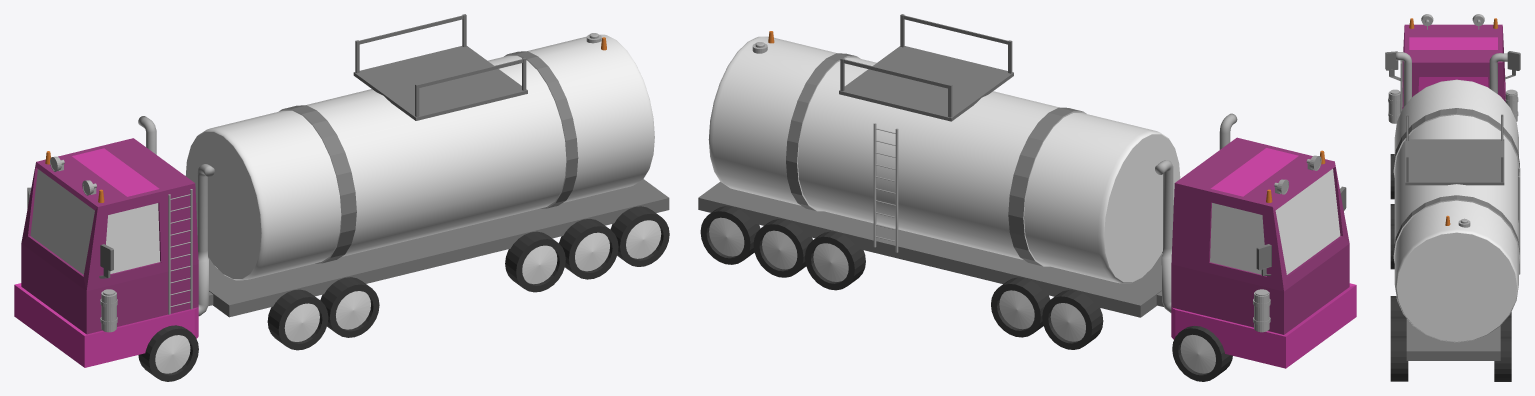
The model's file is Oil Purple.fbx.
3 renders of one model, left to right at view 1: azimuth 30°, elevation 25°; view 2: azimuth 150°, elevation 25°; view 3: azimuth 270°, elevation 25°, orthographic. The views are drawn at different scales.
Visible parts, largest first — view 1: Cylinder.075, Truck Body.007, Cube.011, Cylinder.089, Cylinder.093, Cylinder.091, Cylinder.090, Cylinder.092, Cylinder.088, Cylinder.076, Cylinder.079, Cylinder.084; view 2: Cylinder.075, Truck Body.007, Cube.011, Cylinder.096, Cylinder.098, Cylinder.095, Cylinder.099, Cylinder.097, Cylinder.094, Cylinder.077, Cylinder.078, Cylinder.085; view 3: Cylinder.075, Truck Body.007, Cube.011, Cylinder.092, Cylinder.099, Cylinder.076, Cylinder.077, Cylinder.084, Cylinder.091, Cube.012, Cube.013, Cylinder.085 (+8 smaller).
Boxes of the visible parts, bbox=[...] form: Cylinder.075: bbox=[185, 34, 654, 280]; Truck Body.007: bbox=[14, 138, 669, 367]; Cube.011: bbox=[353, 14, 527, 120]; Cylinder.089: bbox=[267, 289, 328, 350]; Cylinder.093: bbox=[505, 231, 565, 292]; Cylinder.091: bbox=[559, 219, 618, 279]; Cylinder.090: bbox=[320, 277, 379, 337]; Cylinder.092: bbox=[610, 206, 669, 266]; Cylinder.088: bbox=[138, 325, 198, 381]; Cylinder.076: bbox=[197, 164, 214, 316]; Cylinder.079: bbox=[168, 189, 192, 314]; Cylinder.084: bbox=[100, 289, 117, 332]; Cylinder.075: bbox=[708, 36, 1180, 283]; Truck Body.007: bbox=[698, 137, 1356, 368]; Cube.011: bbox=[839, 14, 1013, 121]; Cylinder.096: bbox=[1042, 290, 1103, 349]; Cylinder.098: bbox=[805, 231, 865, 290]; Cylinder.095: bbox=[991, 277, 1050, 337]; Cylinder.099: bbox=[700, 206, 760, 264]; Cylinder.097: bbox=[753, 219, 812, 277]; Cylinder.094: bbox=[1172, 326, 1232, 381]; Cylinder.077: bbox=[1155, 160, 1173, 312]; Cylinder.078: bbox=[873, 123, 898, 252]; Cylinder.085: bbox=[1253, 289, 1270, 332]; Cylinder.075: bbox=[1393, 79, 1519, 342]; Truck Body.007: bbox=[1402, 24, 1505, 360]; Cube.011: bbox=[1405, 114, 1504, 185]; Cylinder.092: bbox=[1390, 336, 1408, 381]; Cylinder.099: bbox=[1494, 336, 1511, 381]; Cylinder.076: bbox=[1396, 52, 1411, 106]; Cylinder.077: bbox=[1489, 53, 1507, 93]; Cylinder.084: bbox=[1388, 89, 1400, 123]; Cylinder.091: bbox=[1390, 316, 1406, 336]; Cube.012: bbox=[1385, 51, 1400, 80]; Cube.013: bbox=[1505, 51, 1520, 79]; Cylinder.085: bbox=[1505, 89, 1518, 121].
Bounding box in the file's own units: 899 × 330 × 224.
